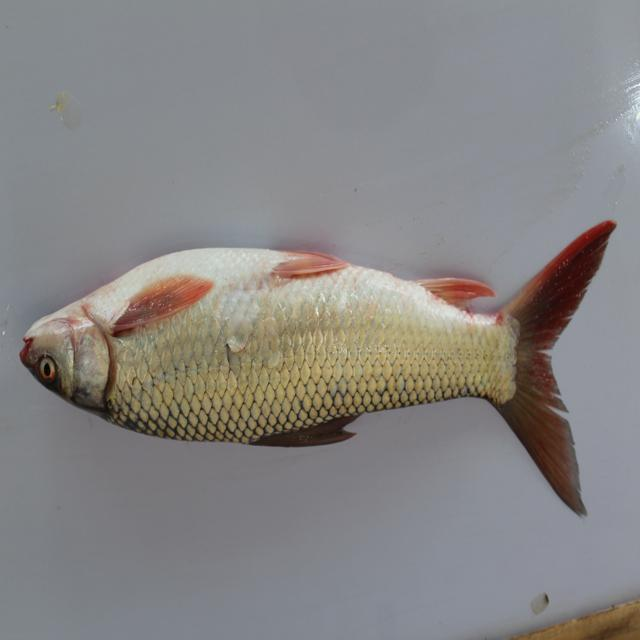Mori: (16, 210, 621, 529)
